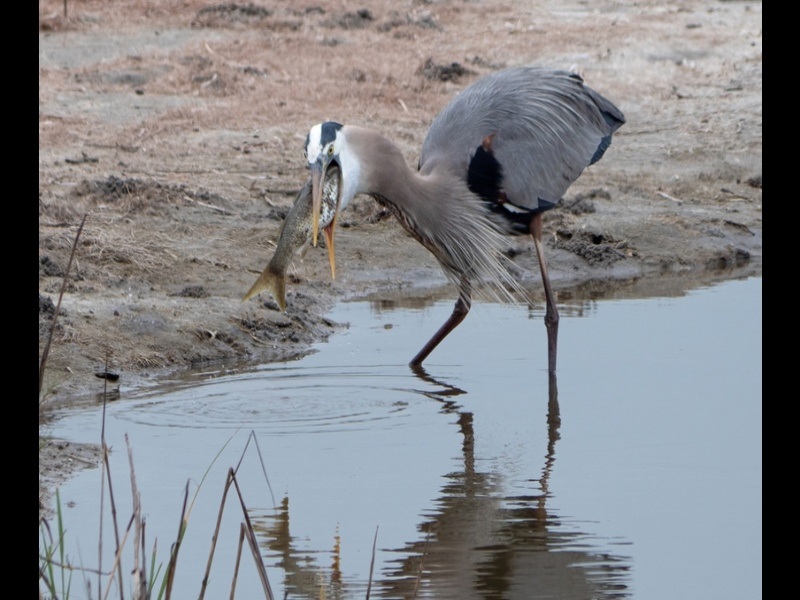heron: (306, 59, 626, 447)
